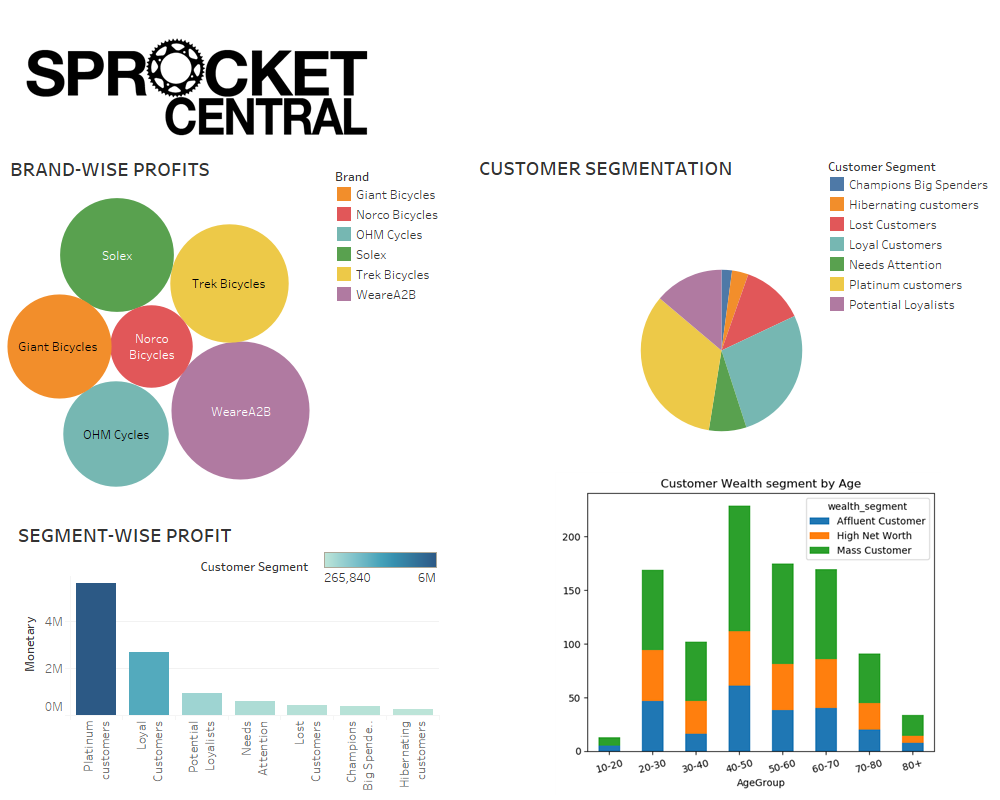

Layout of this report page (visuals, bound fields, positions):
{"tool":"tableau","page":{"name":"Dashboard 1","canvas":[1000,800],"ordinal":0},"visuals":[{"type":"worksheet","param":"C:/Users/USER/Downloads/sprocket_central_logo.png","box":[25,38,389,121]},{"type":"worksheet","title":"Sheet 4","mark":"Pie","box":[475,148,493,364]},{"type":"worksheet","title":"Sheet 2","mark":"Circle","box":[6,149,674,345]},{"type":"worksheet","title":"Sheet 4","mark":"Pie","param":"[federated.0462y9g1739lw41bisbxn0rvd9t3].[none:Customer Segment:nk]","box":[827,156,166,158]},{"type":"worksheet","title":"Sheet 2","mark":"Circle","param":"[federated.0hnicqj0ooumi11d60kf70fmxoma].[none:brand:nk]","box":[334,166,140,138]},{"type":"worksheet","title":"Sheet 3","mark":"Automatic","rows":["Monetary"],"cols":["Customer Segment"],"box":[14,515,425,280]},{"type":"worksheet","title":"Sheet 3","mark":"Automatic","rows":["Monetary"],"cols":["Customer Segment"],"param":"[federated.1ru9sjj1vmx02w14v6f161w4hiq4].[sum:Monetary:qk]","box":[320,548,121,47]}]}

Visuals, with their boxes in screenshot pixels (x1, y1, x2, y2), scaled from the page's 1000x800 canvas onto the 1000x800 screenshot:
worksheet: locate(25, 38, 414, 159)
"Sheet 4" worksheet (Pie marks): locate(475, 148, 968, 512)
"Sheet 2" worksheet (Circle marks): locate(6, 149, 680, 494)
"Sheet 4" worksheet (Pie marks): locate(827, 156, 993, 314)
"Sheet 2" worksheet (Circle marks): locate(334, 166, 474, 304)
"Sheet 3" worksheet: locate(14, 515, 439, 795)
"Sheet 3" worksheet: locate(320, 548, 441, 595)
